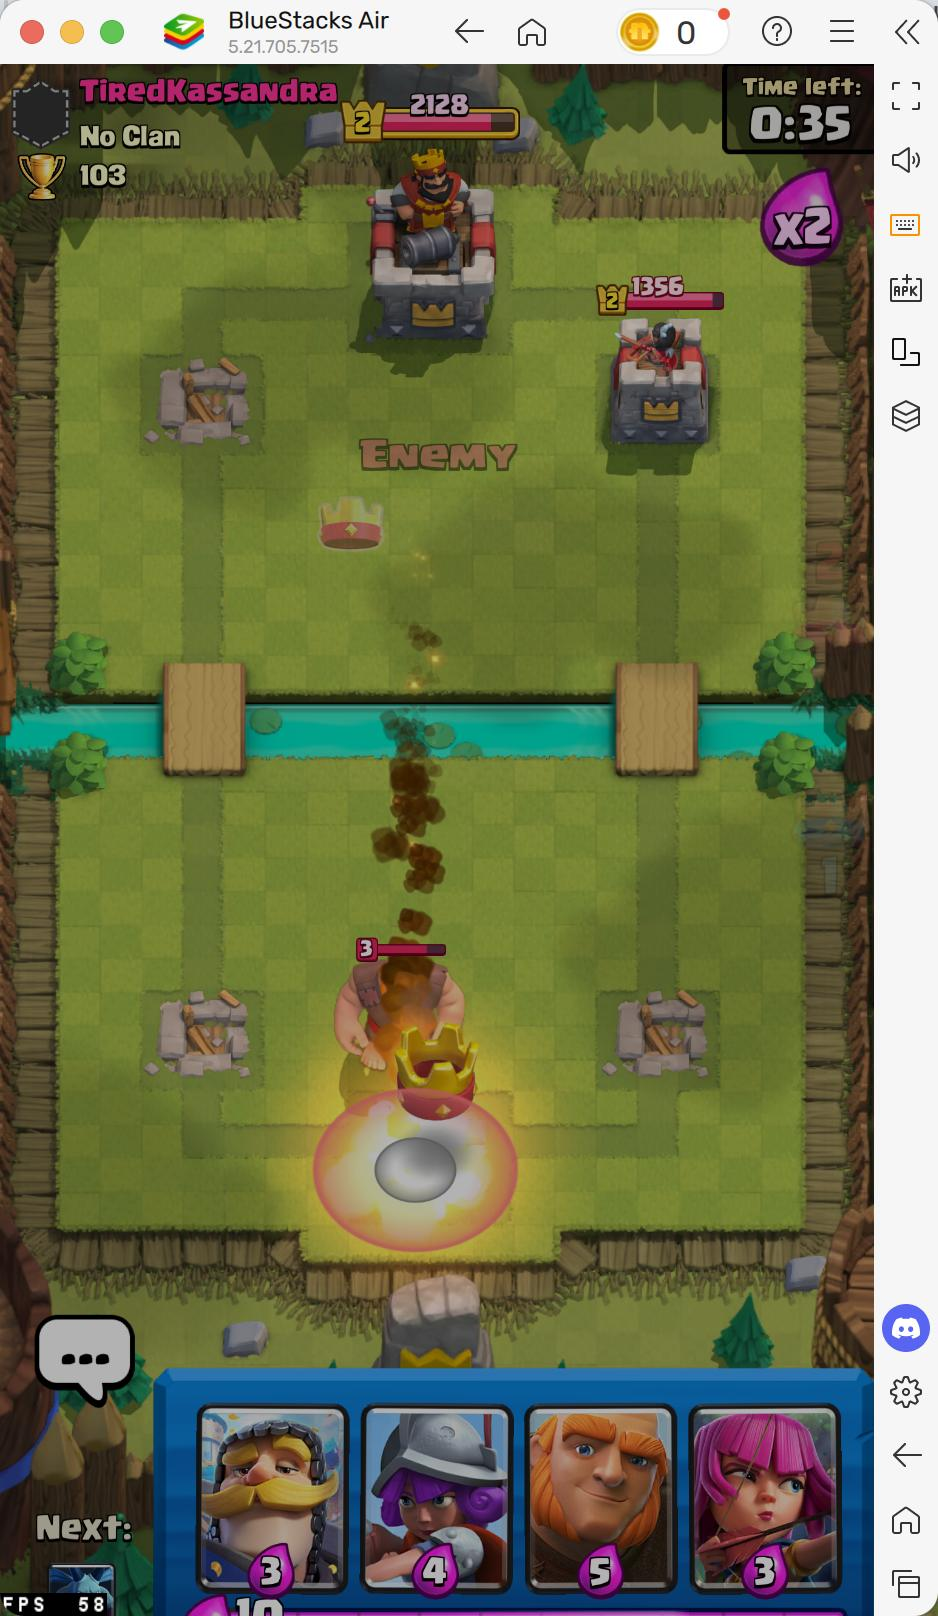0: (746, 104, 785, 143)
1: (423, 90, 438, 117), (630, 273, 643, 297)
2: (408, 90, 427, 118), (433, 90, 452, 117)
3: (795, 102, 826, 145), (258, 1552, 284, 1591), (752, 1554, 777, 1590), (639, 273, 657, 299)
4: (419, 1551, 452, 1590)
5: (823, 102, 854, 145), (585, 1551, 613, 1590), (653, 273, 670, 298)
7: (668, 270, 687, 298)
Battle: (449, 92, 471, 117)
